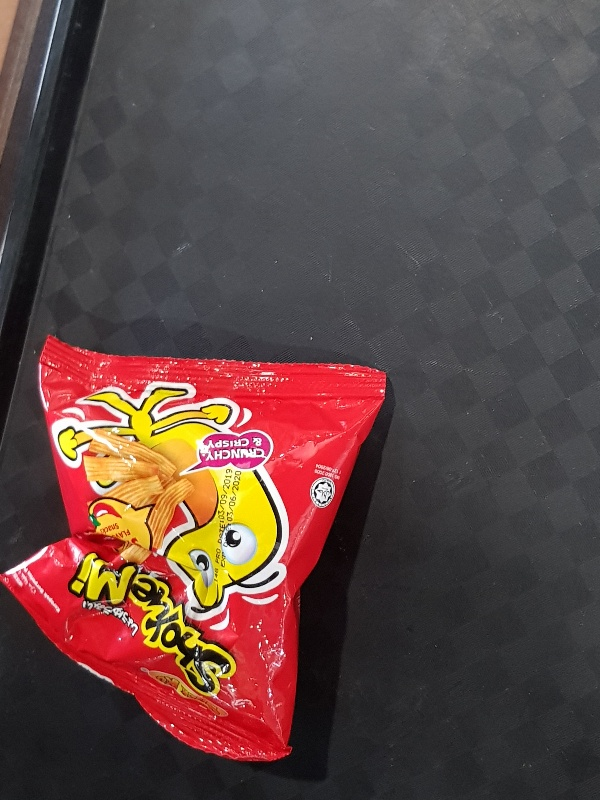ShoyueMi Spicy Flavoured Snacks: (2, 333, 387, 762)
